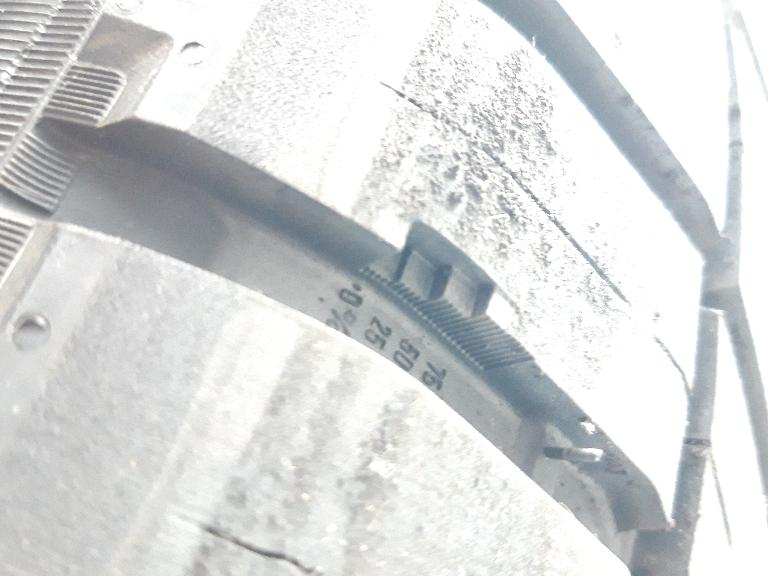temoin:75: (350, 210, 526, 365)
